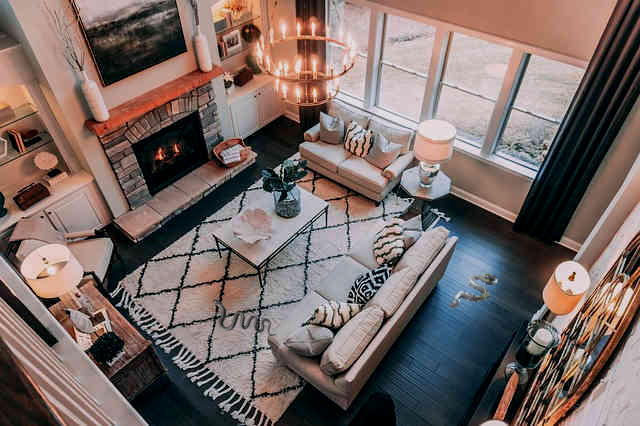snake: (210, 298, 274, 335), (449, 268, 499, 311)
